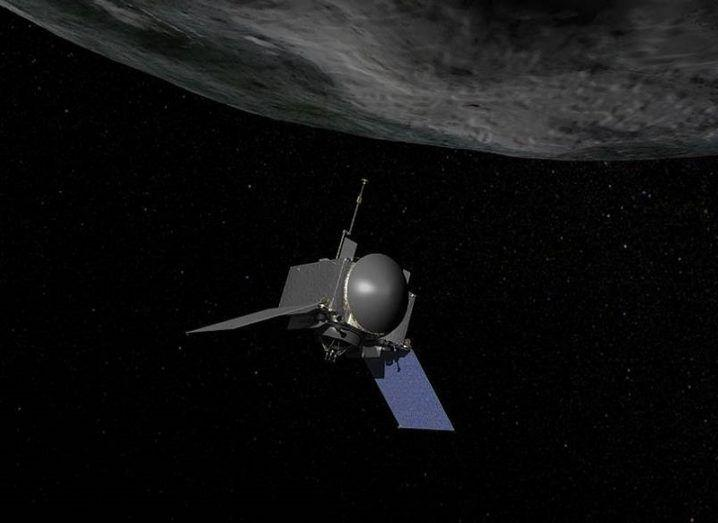antenna: (345, 252, 411, 335), (334, 177, 369, 260)
body: (277, 258, 418, 347)
solar: (361, 345, 456, 432), (182, 303, 321, 334)
thruster: (317, 324, 361, 365)
